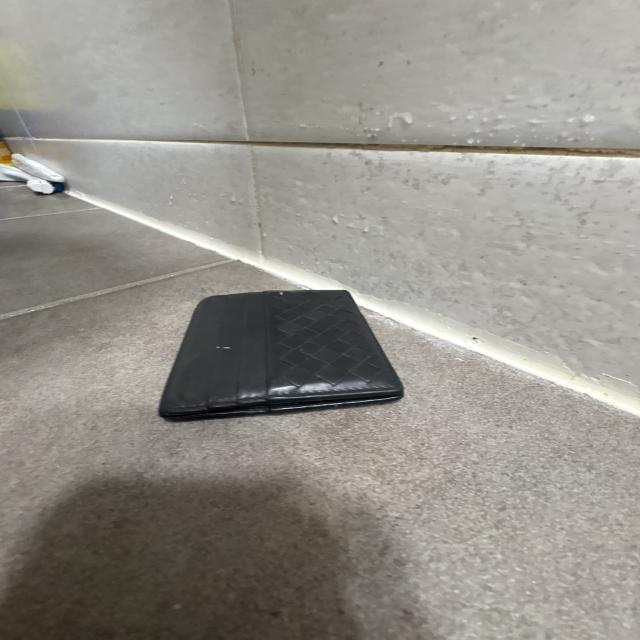wallet: (156, 287, 406, 423)
